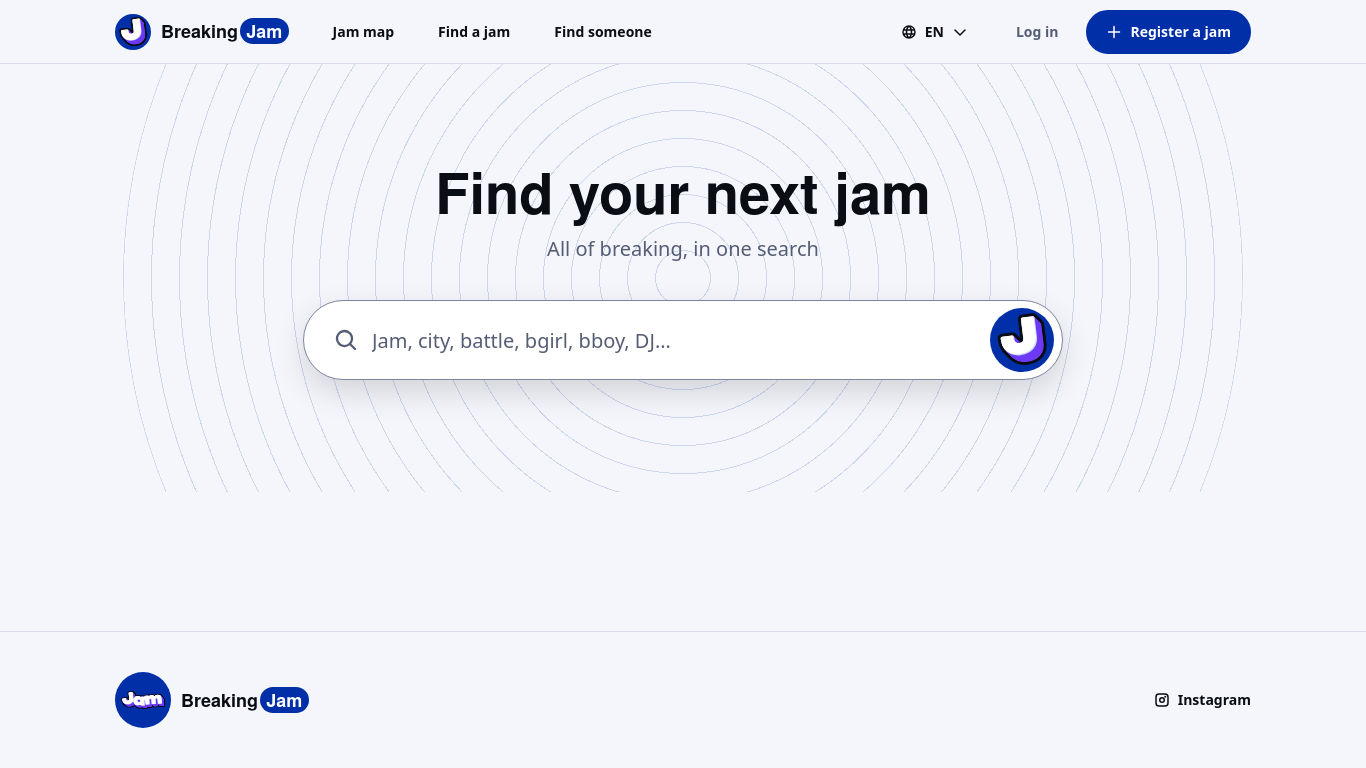
Header › works from the keyboard
This screenshot has width=1366, height=768.
Click the button with aria-label "Language: English": (934, 32) [881,10,988,54]
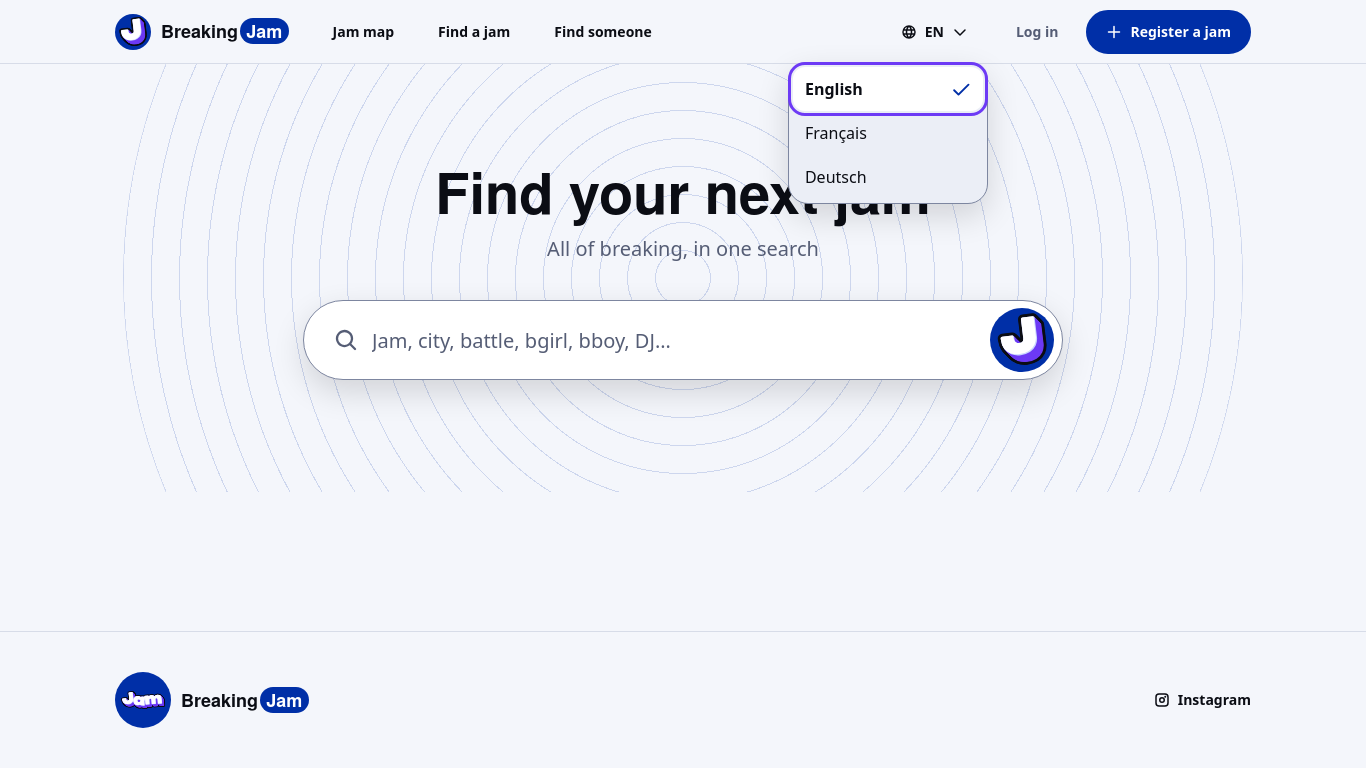
Press Arrowdown Arrowdown Enter
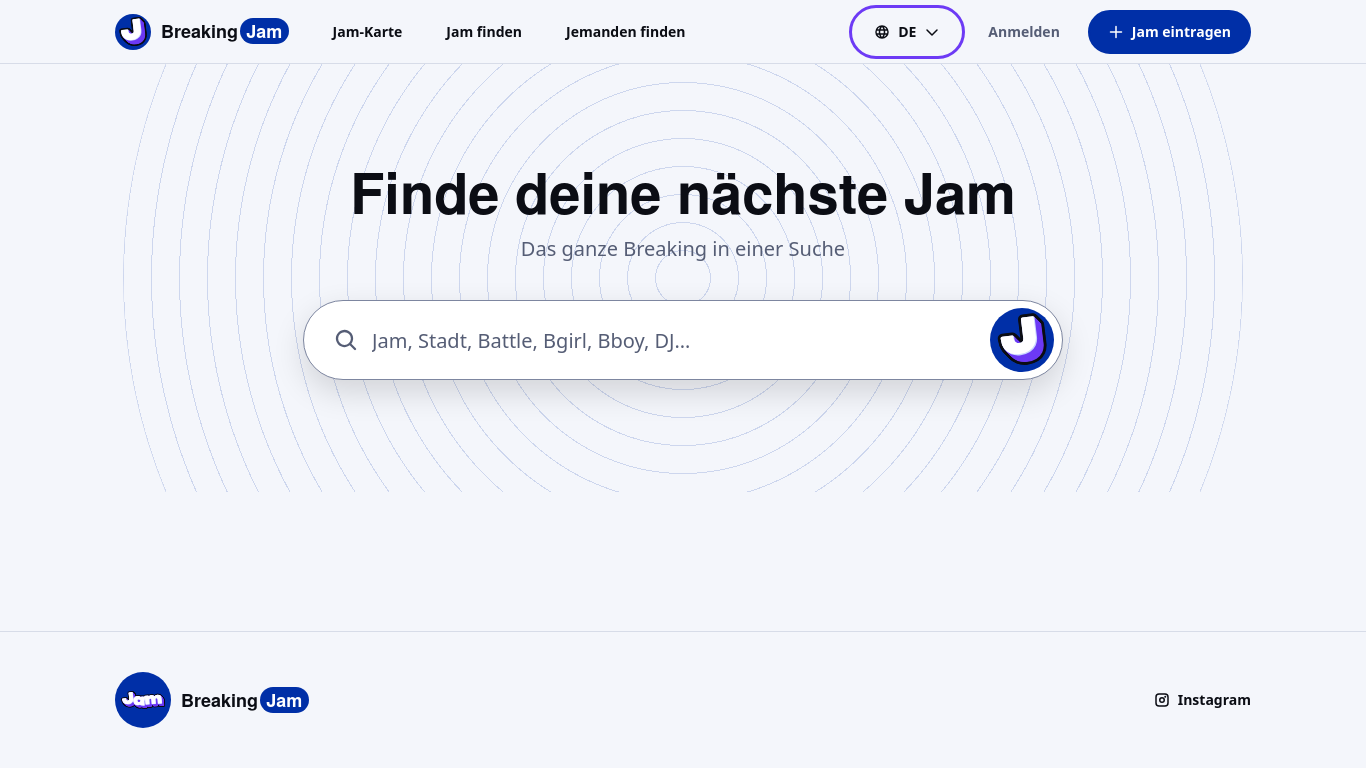
Expected: the link "Jam finden" is shown, [446,22,522,40]
Click the button with aria-label "Sprache: Deutsch": (907, 32) [854,10,960,54]
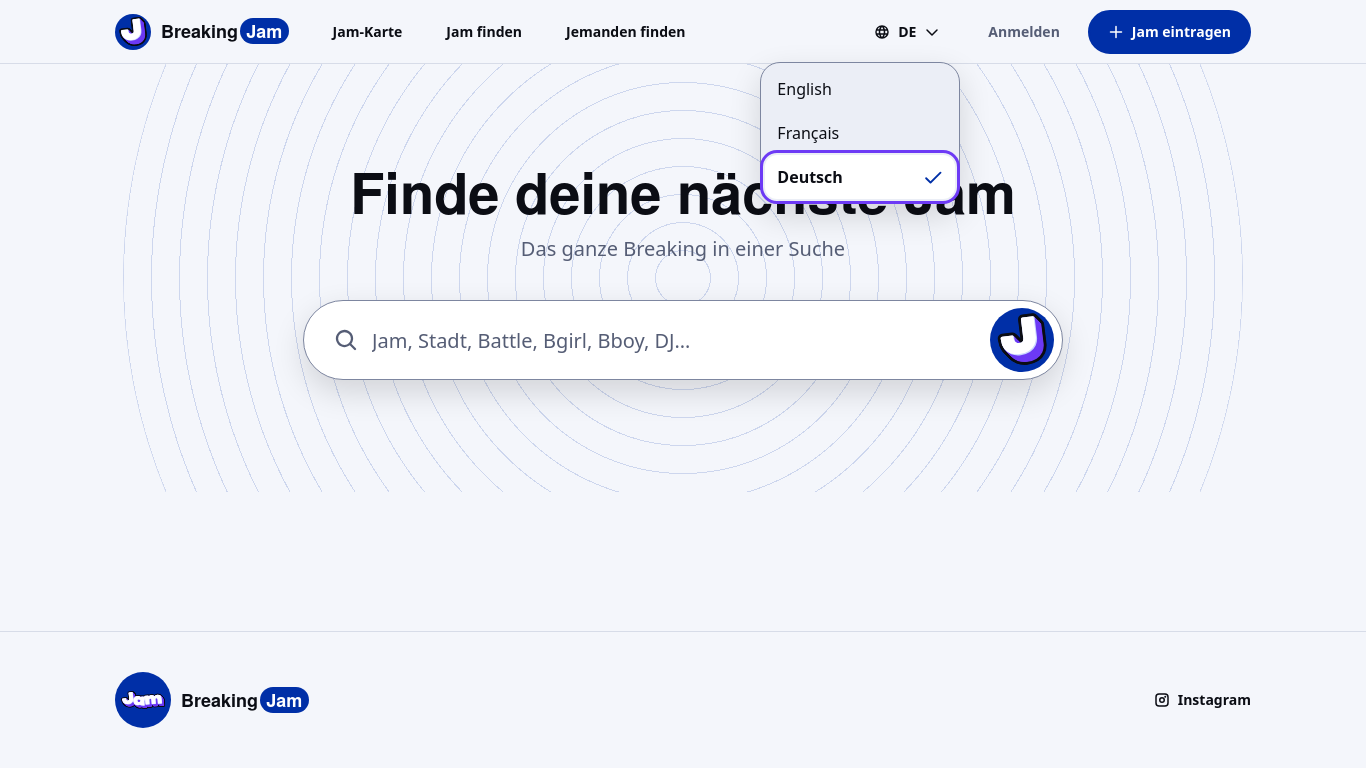
Press Escape
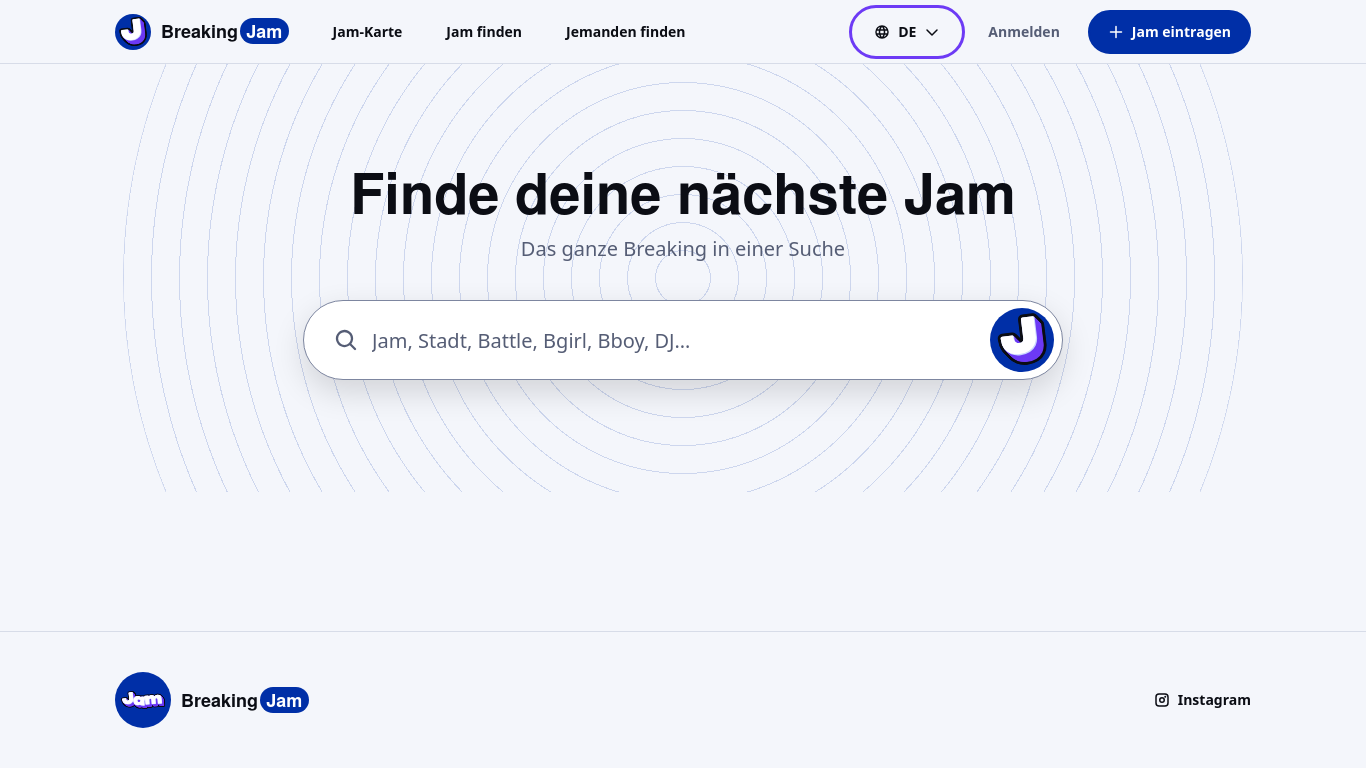
Expected: the list is gone
